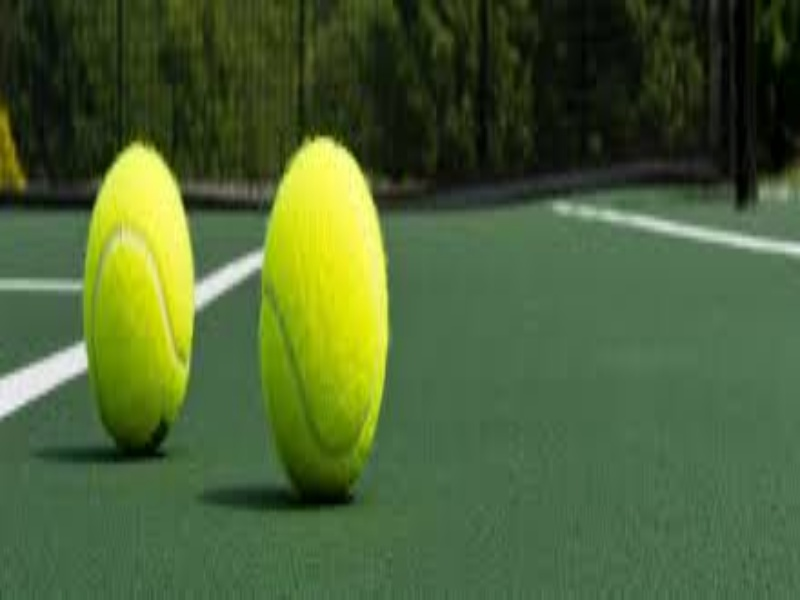tennis ball: (253, 112, 401, 495), (83, 127, 199, 469)
